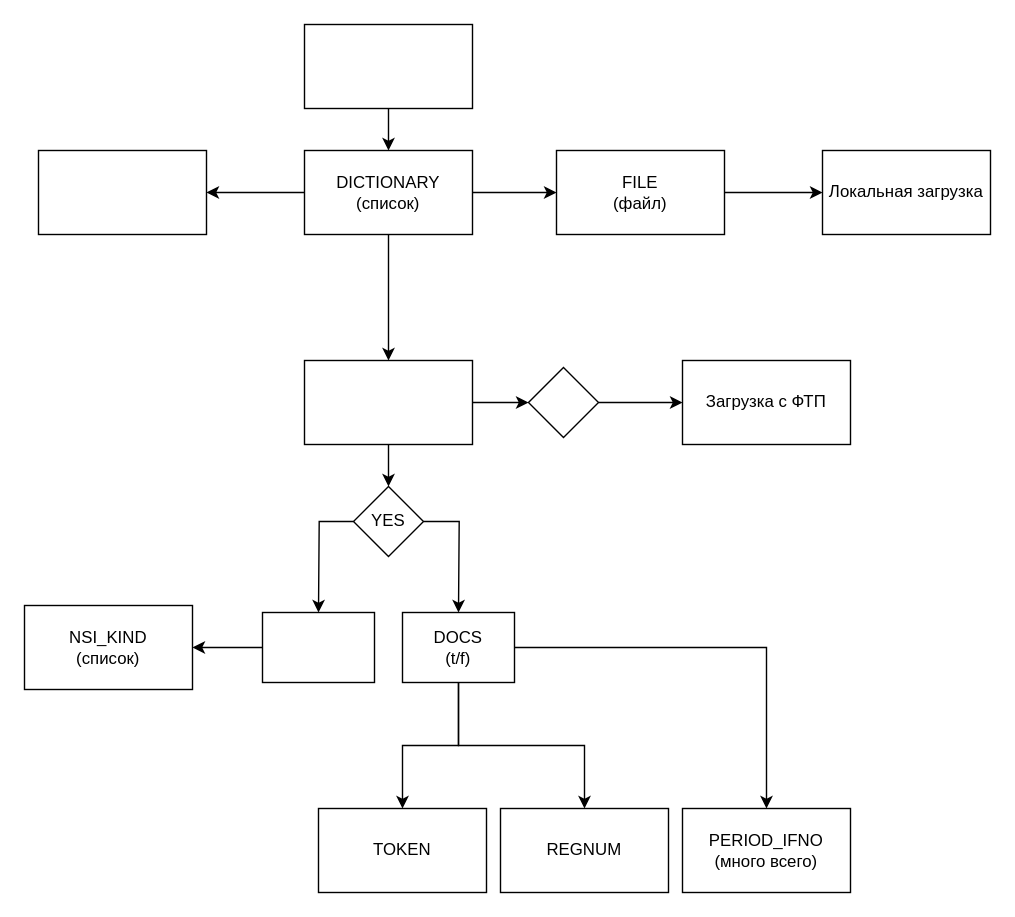
Image size: 1015x917. Some labels were removed from this diagram. The shapes that lost their labels are listed below. From the top down, each one's centre as x and y in pixels, then its label:
At point 387,65: "SERVER (список)".
At point 121,191: "ANEW (t/f)".
At point 387,401: "FROM_EIS (t/f)".
At point 562,402: "NO".
At point 317,646: "NSI (t/f)".
